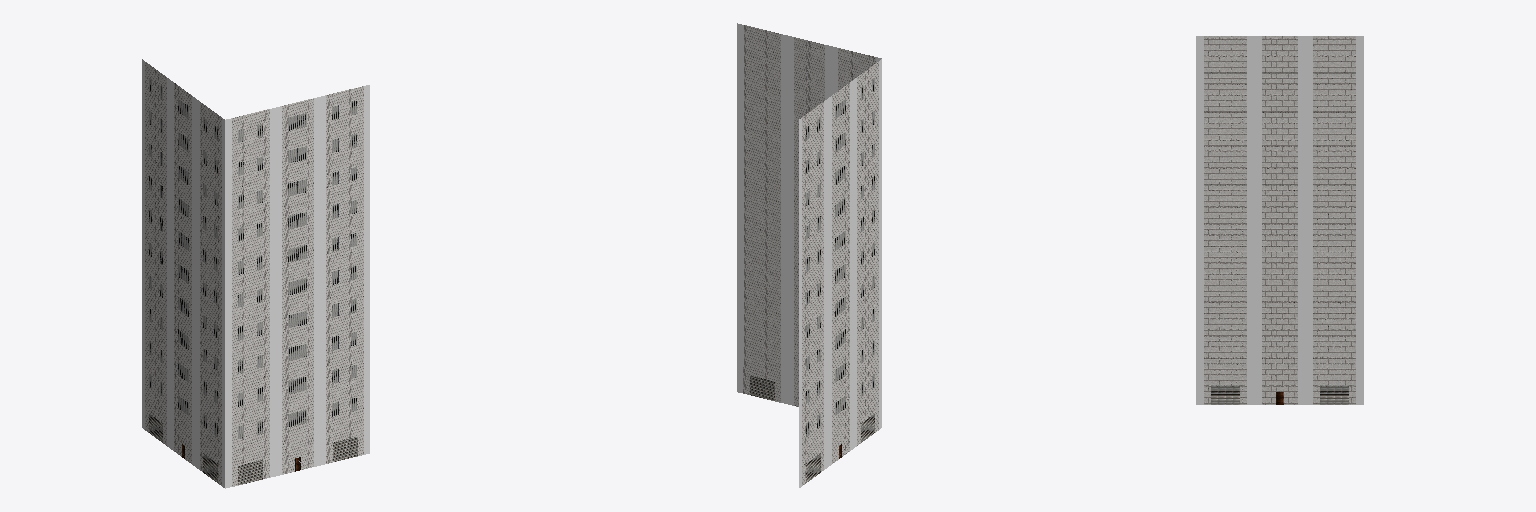
3 views of the same model, side by side, from view 1: azimuth 30°, elevation 25°; view 2: azimuth 150°, elevation 25°; view 3: azimuth 270°, elevation 25° (orthographic).
Visible parts, largest first — view 1: TallBuilding2; view 2: TallBuilding2; view 3: TallBuilding2.
Part boxes in pixels (x1,y1,x2,y2): TallBuilding2: (142,59,369,488); TallBuilding2: (737,23,881,487); TallBuilding2: (1196,36,1363,404).
Size of the model in its own units: 23.08 by 56 by 23.01.
Materials: 5 (4 with a texture image).